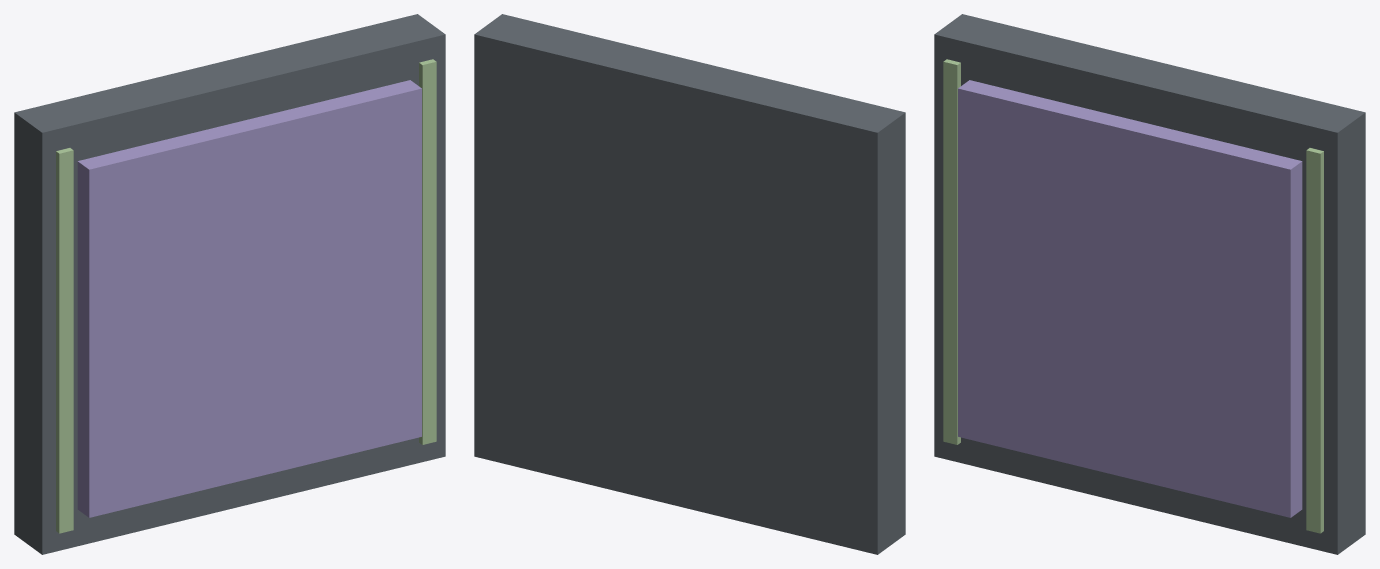
File: platform.glb
3 views of the same model, side by side, from view 1: azimuth 30°, elevation 25°; view 2: azimuth 150°, elevation 25°; view 3: azimuth 330°, elevation 25° (orthographic).
Parts seen in each view (by area): view 1: platform_1, platform_0, platform_2, platform_3; view 2: platform_0; view 3: platform_1, platform_0, platform_3, platform_2.
Boxes of the visible parts, box(x1,y1,x2,y2) form: platform_1: box(77, 80, 421, 517); platform_0: box(14, 14, 445, 554); platform_2: box(56, 148, 73, 533); platform_3: box(419, 59, 436, 444); platform_0: box(474, 14, 905, 554); platform_1: box(958, 80, 1302, 517); platform_0: box(934, 14, 1365, 554); platform_3: box(1306, 148, 1323, 533); platform_2: box(943, 59, 960, 444).
Size of the model in its own units: 2 by 2 by 0.34.
